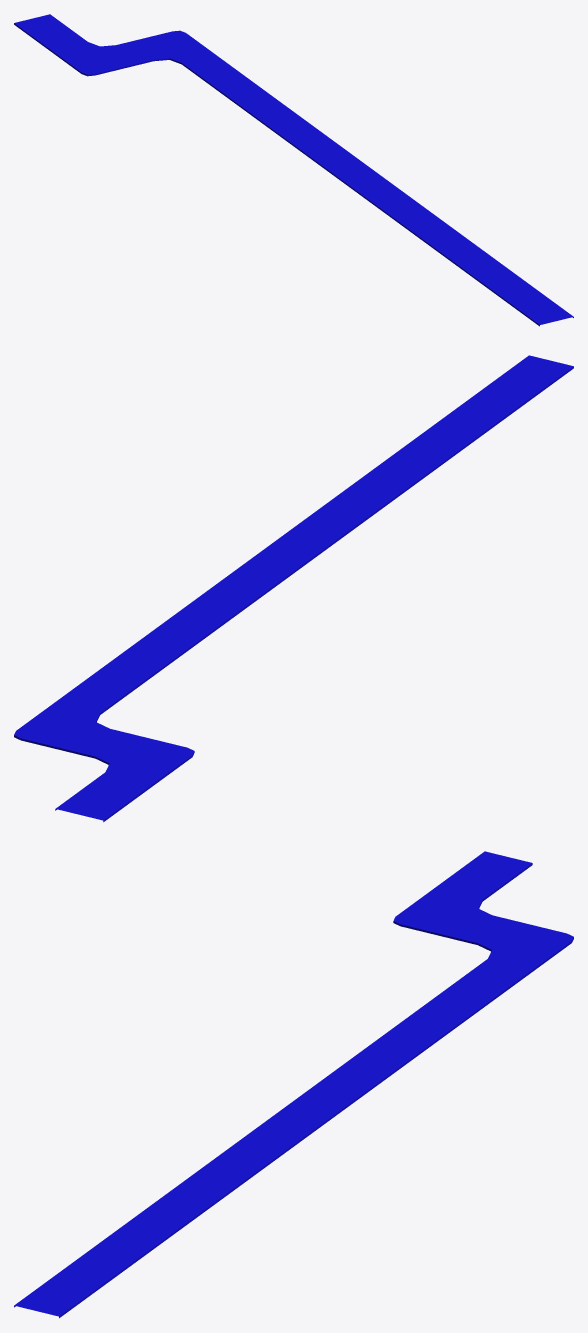
Rendered from Road.fbx.
3 views of the same model, one above another, from view 1: azimuth 30°, elevation 25°; view 2: azimuth 150°, elevation 25°; view 3: azimuth 330°, elevation 25° (orthographic). The views are drawn at different scales.
Visible parts, largest first — view 1: Road; view 2: Road; view 3: Road.
Part boxes in pixels (x1,y1,x2,y2): Road: (14, 14, 573, 326); Road: (14, 355, 573, 822); Road: (14, 851, 573, 1318).
Bounding box in the file's own units: 117 × 1.48 × 750.
